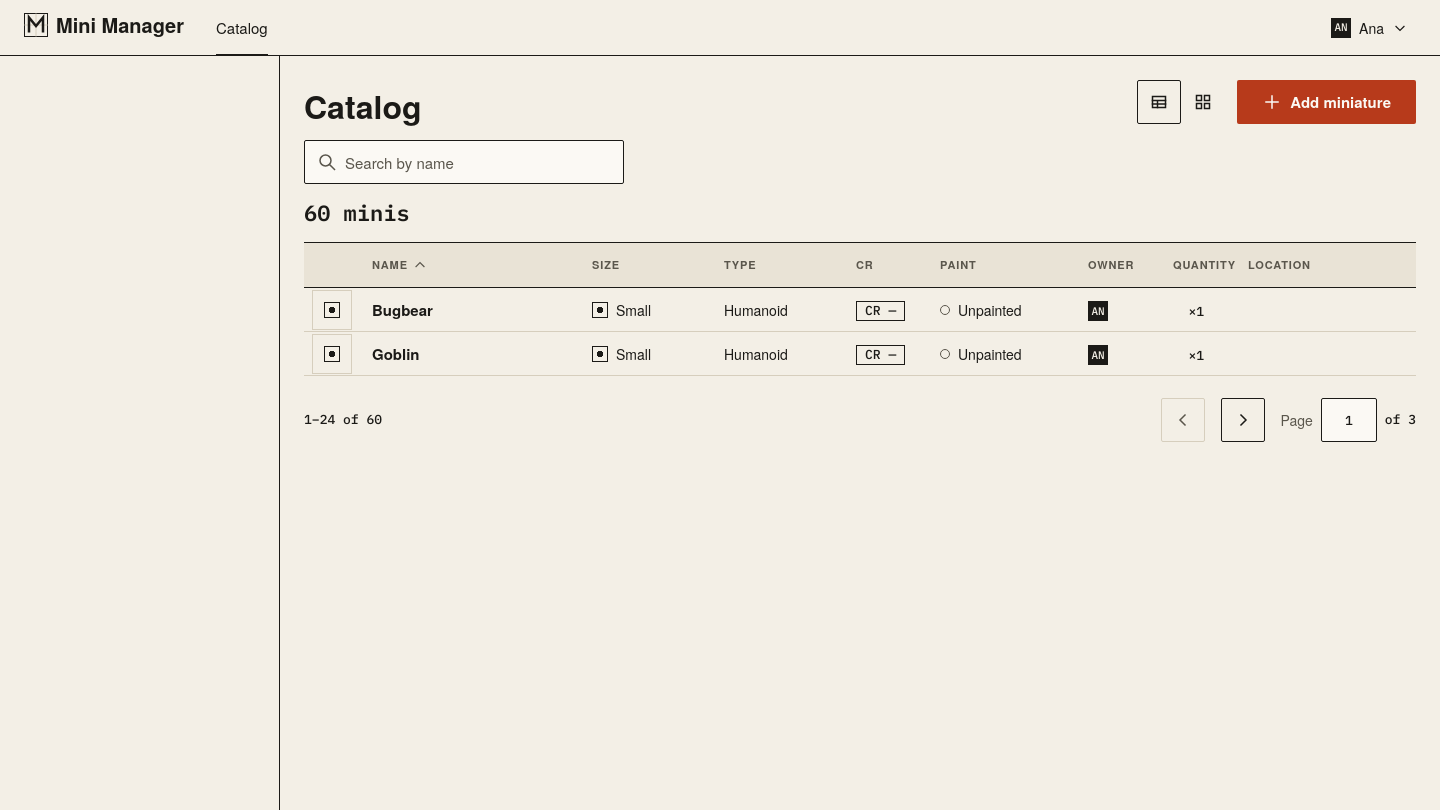
CatalogPage › card 5 rule 10: shows a page of 24 and pages through the rest
Expected: the link "Bugbear" is shown, [372, 298, 433, 320]
Expected: the text "60 minis" is shown, [304, 198, 410, 227]
What coordinates should you click on to do the following:
click the button named "Next page"
I would click on:
 (1242, 420)
Its box is [1220, 398, 1264, 442].
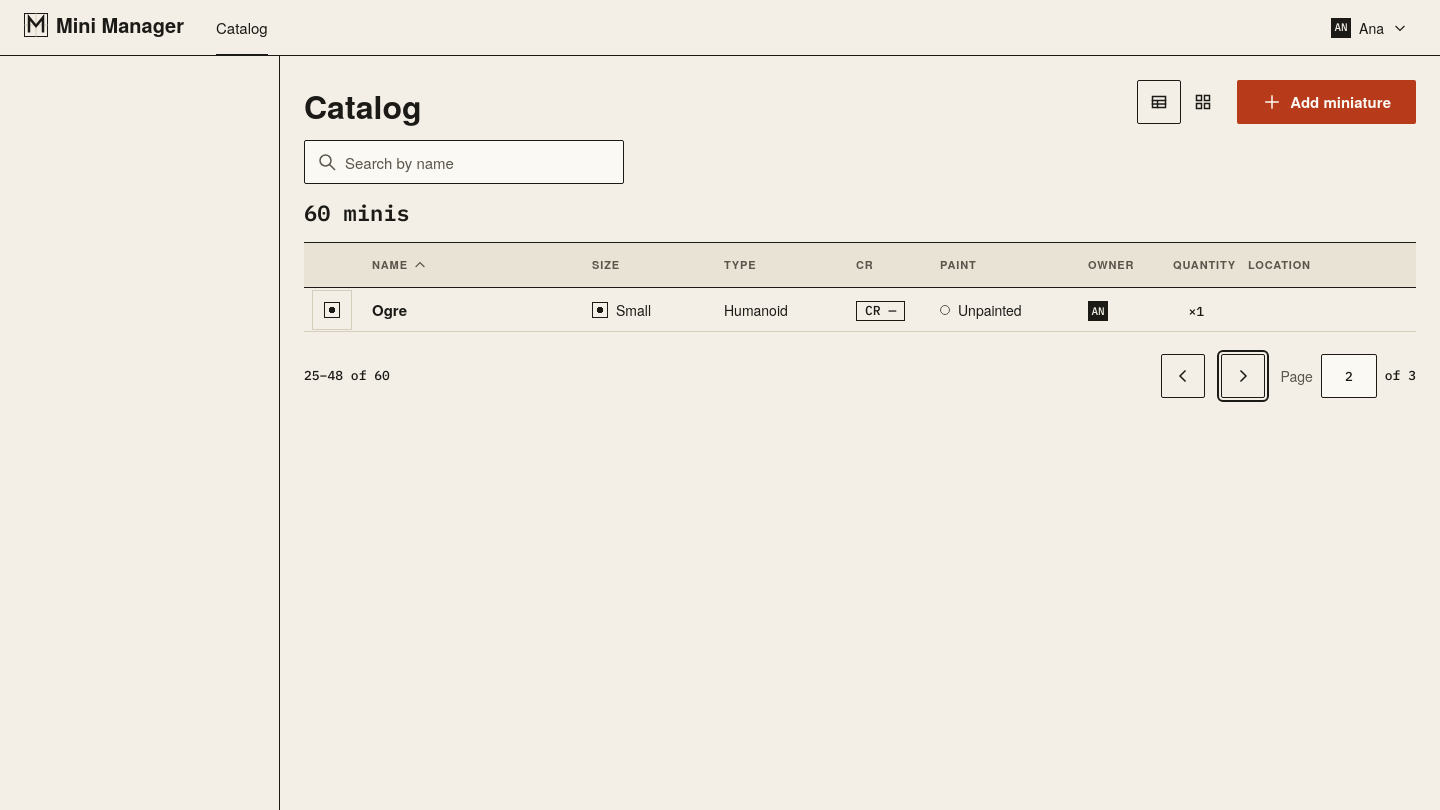
Now the link "Ogre" is shown, box [372, 298, 407, 320]
